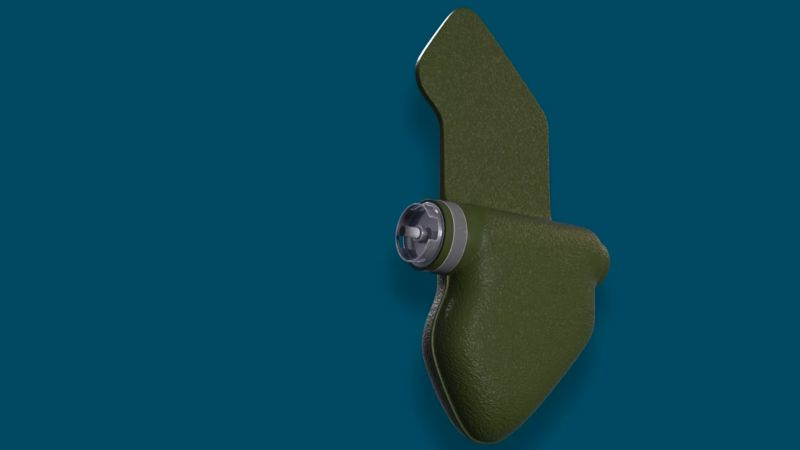butterfly: (382, 4, 621, 449)
